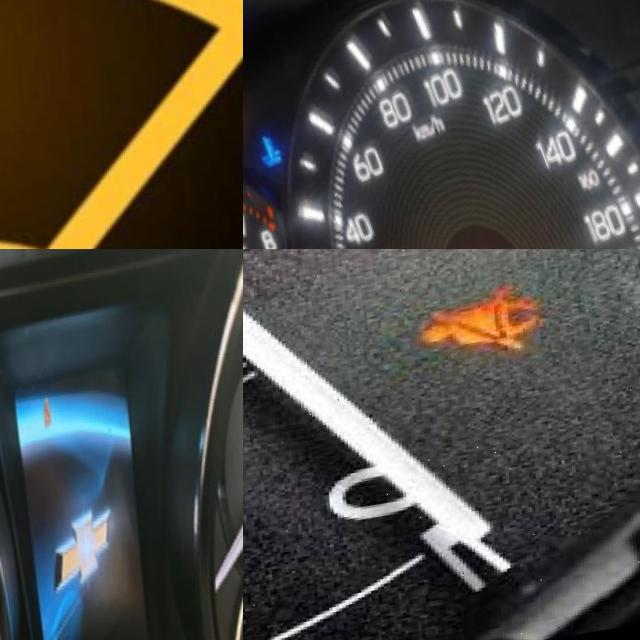Engine cooling system: (246, 128, 286, 183)
Seat Belt: (410, 297, 534, 377)
Washer Fluid: (0, 0, 243, 249)
